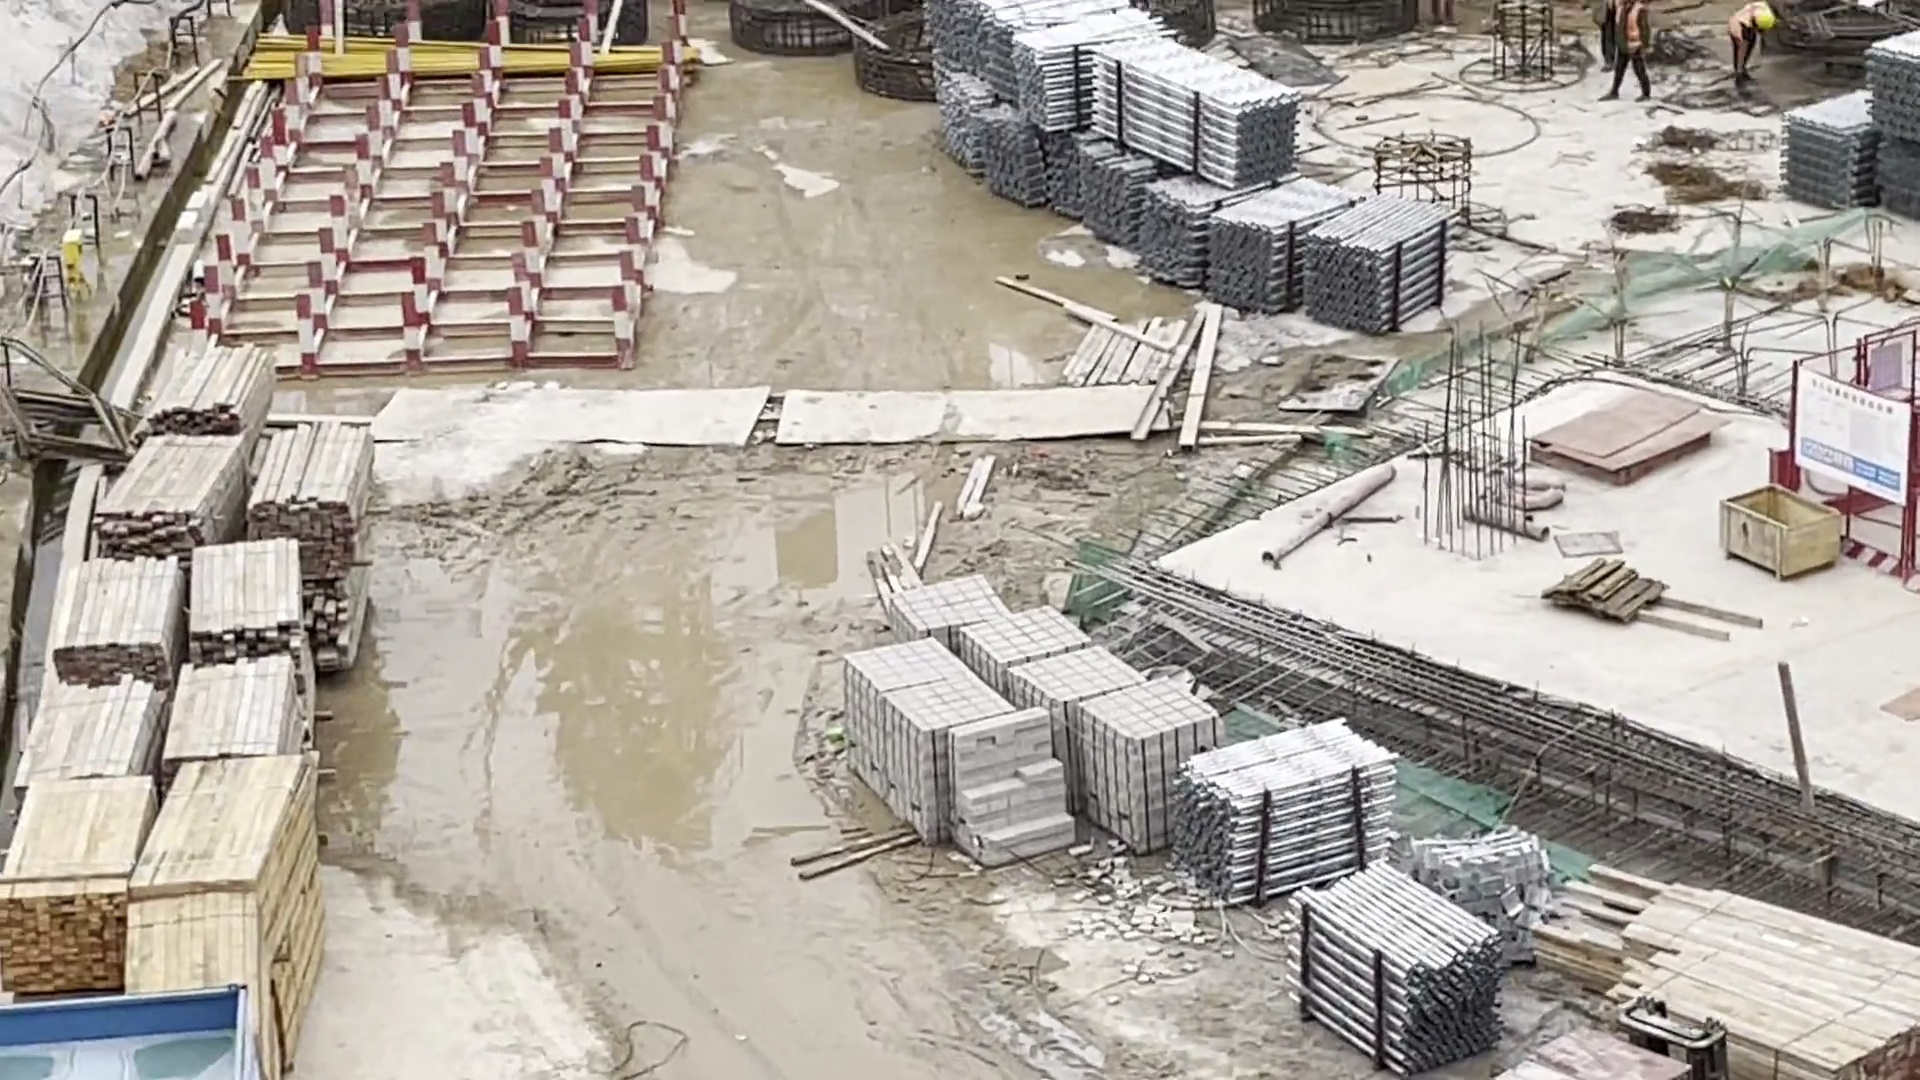board: (1534, 381, 1725, 479)
scaffold: (928, 1, 1461, 334), (1298, 858, 1502, 1072), (1185, 723, 1396, 905), (1782, 26, 1920, 211)
wood: (15, 343, 386, 992), (1557, 862, 1920, 1069)
